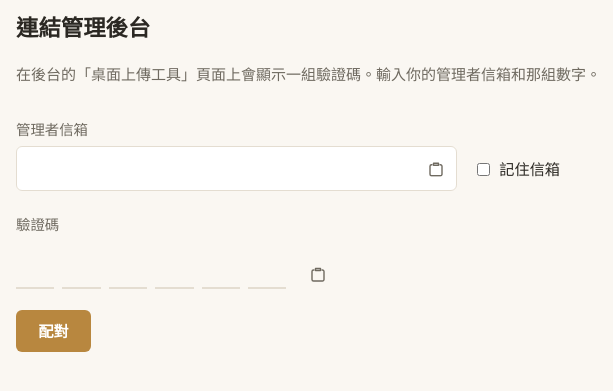
Test: a short code is not sent at all
The width and height of the screenshot is (613, 391).
Type "owner@example.com" into the field labelled "管理者信箱" at x=236, y=169, box left=16, top=146, right=457, bottom=192
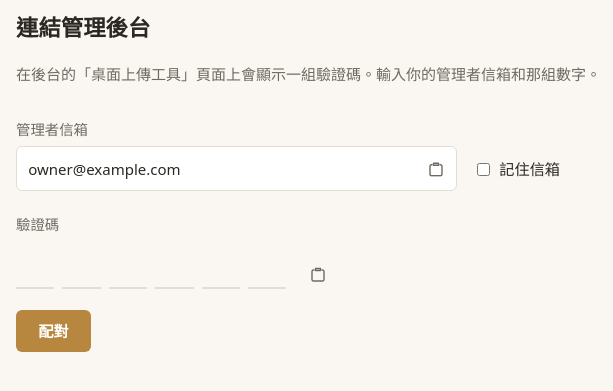
Type "41830" into the 1st field with class "code-slot" at x=35, y=265, box left=16, top=242, right=54, bottom=289
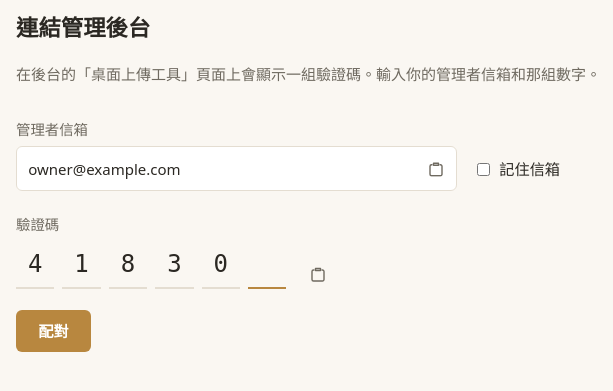
Submit the form, box left=16, top=118, right=560, bottom=352
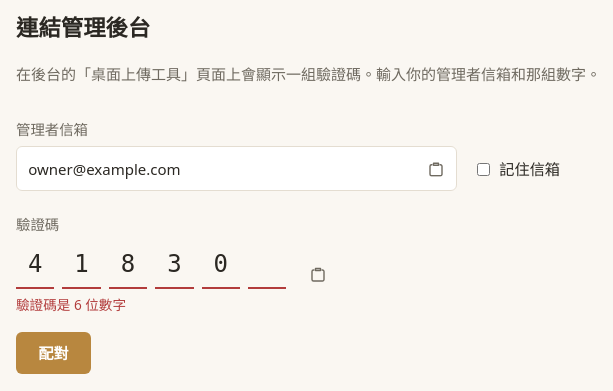
Now the text "6 位數字" is shown, box left=16, top=295, right=126, bottom=314
